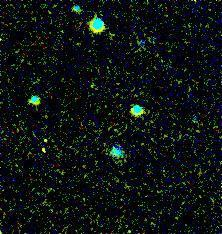star: (28, 117, 58, 147)
